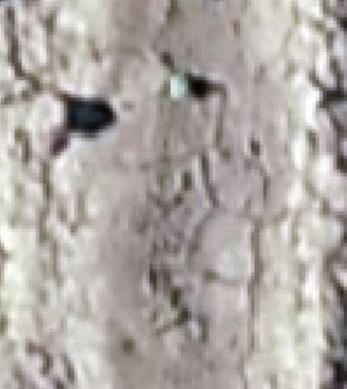cotton: (172, 73, 188, 94)
